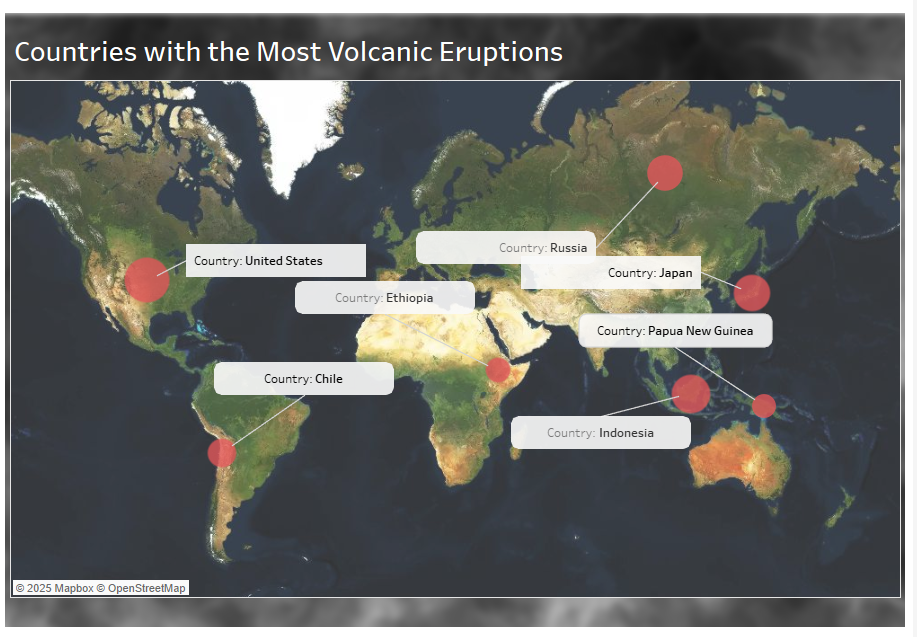

Layout of this report page (visuals, bound fields, positions):
{"tool":"tableau","page":{"name":"Geography Spread","canvas":[900,614],"ordinal":2},"visuals":[{"type":"image","param":"Image/Volcanic ash 4.png","box":[0,0,900,614]},{"type":"worksheet","title":"Country Spread","mark":"Automatic","box":[4.8,14,891.3,570.9]}]}

Visuals, with their boxes in screenshot pixels (x1, y1, x2, y2), scaled from the page's 900x614 canvas onto the 917x637 screenshot:
image: rect(0, 0, 916, 636)
"Country Spread" worksheet: rect(5, 15, 913, 607)
